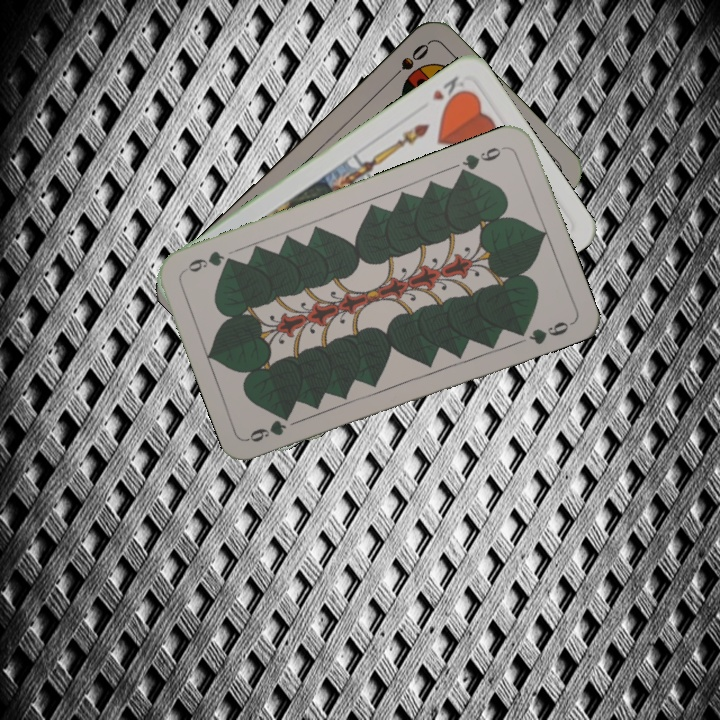G9: (455, 142, 508, 179), (245, 417, 289, 445)
HK: (428, 71, 470, 109)
SO: (384, 39, 432, 85)
